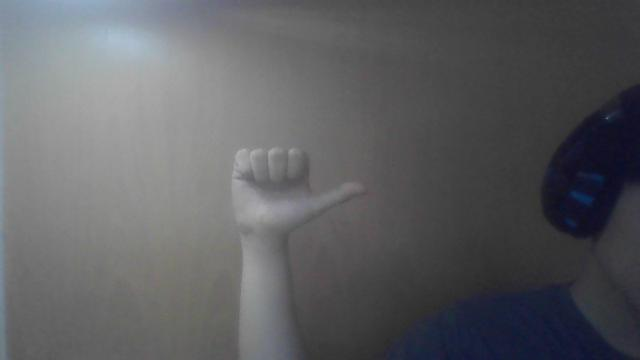left: (224, 135, 376, 235)
